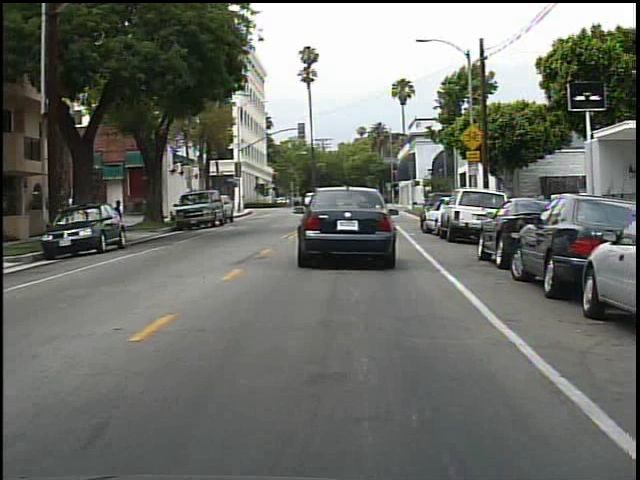person: (110, 196, 129, 243)
